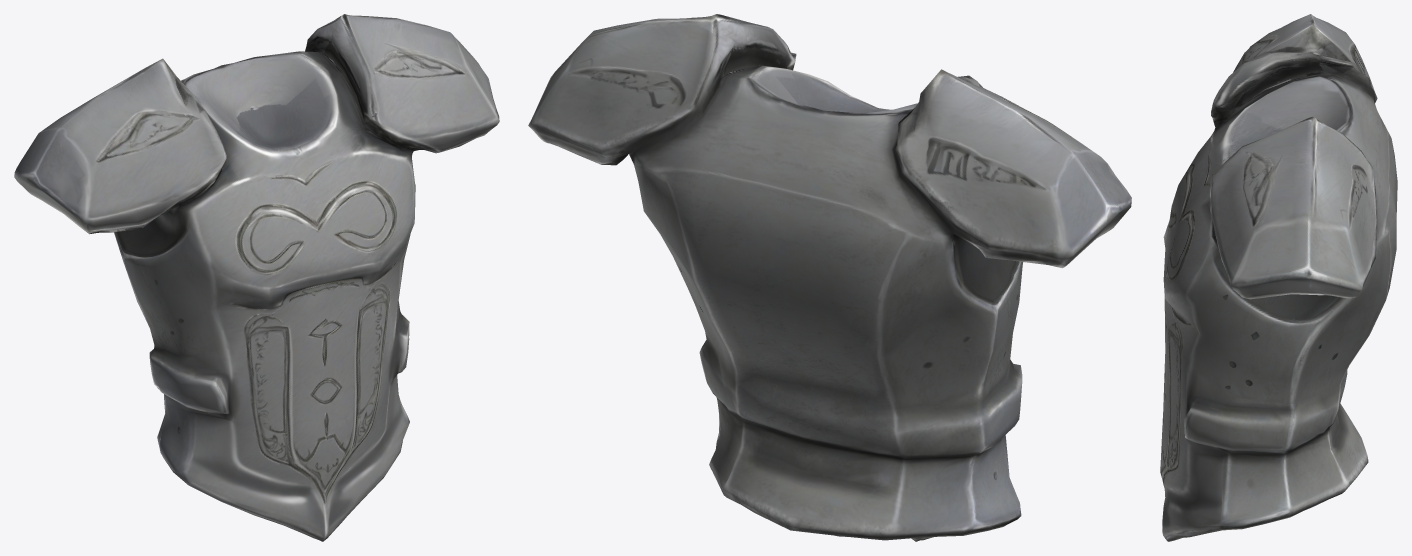
The model's file is body-metal-steel_backup.glb.
3 views of the same model, side by side, from view 1: azimuth 30°, elevation 25°; view 2: azimuth 150°, elevation 25°; view 3: azimuth 270°, elevation 25° (orthographic). The views are drawn at different scales.
Bounding box in the file's own units: 1.98 × 1.9 × 0.8662.
1 material, 1 textured.
